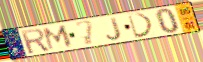0: (154, 8, 182, 35)
7: (75, 19, 95, 47)
D: (126, 12, 155, 40)
J: (106, 16, 123, 42)
M: (43, 24, 74, 52)
R: (19, 27, 51, 55)
